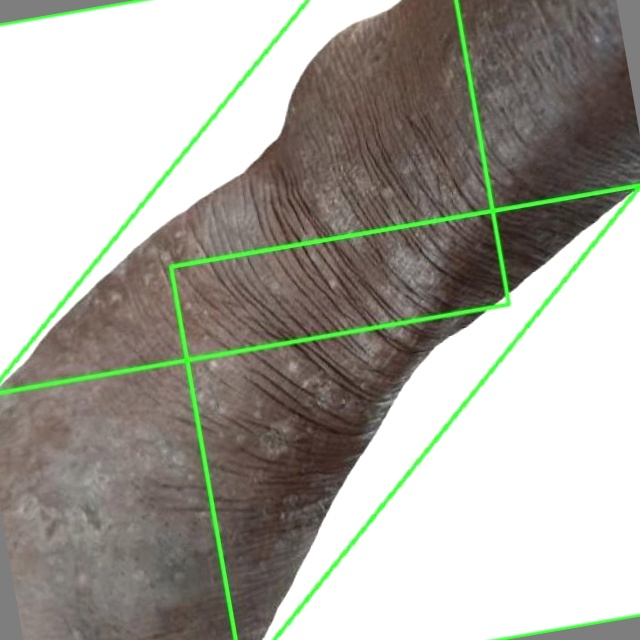Contact Dermatitis: (6, 0, 629, 639), (170, 185, 639, 639), (0, 0, 508, 392)
